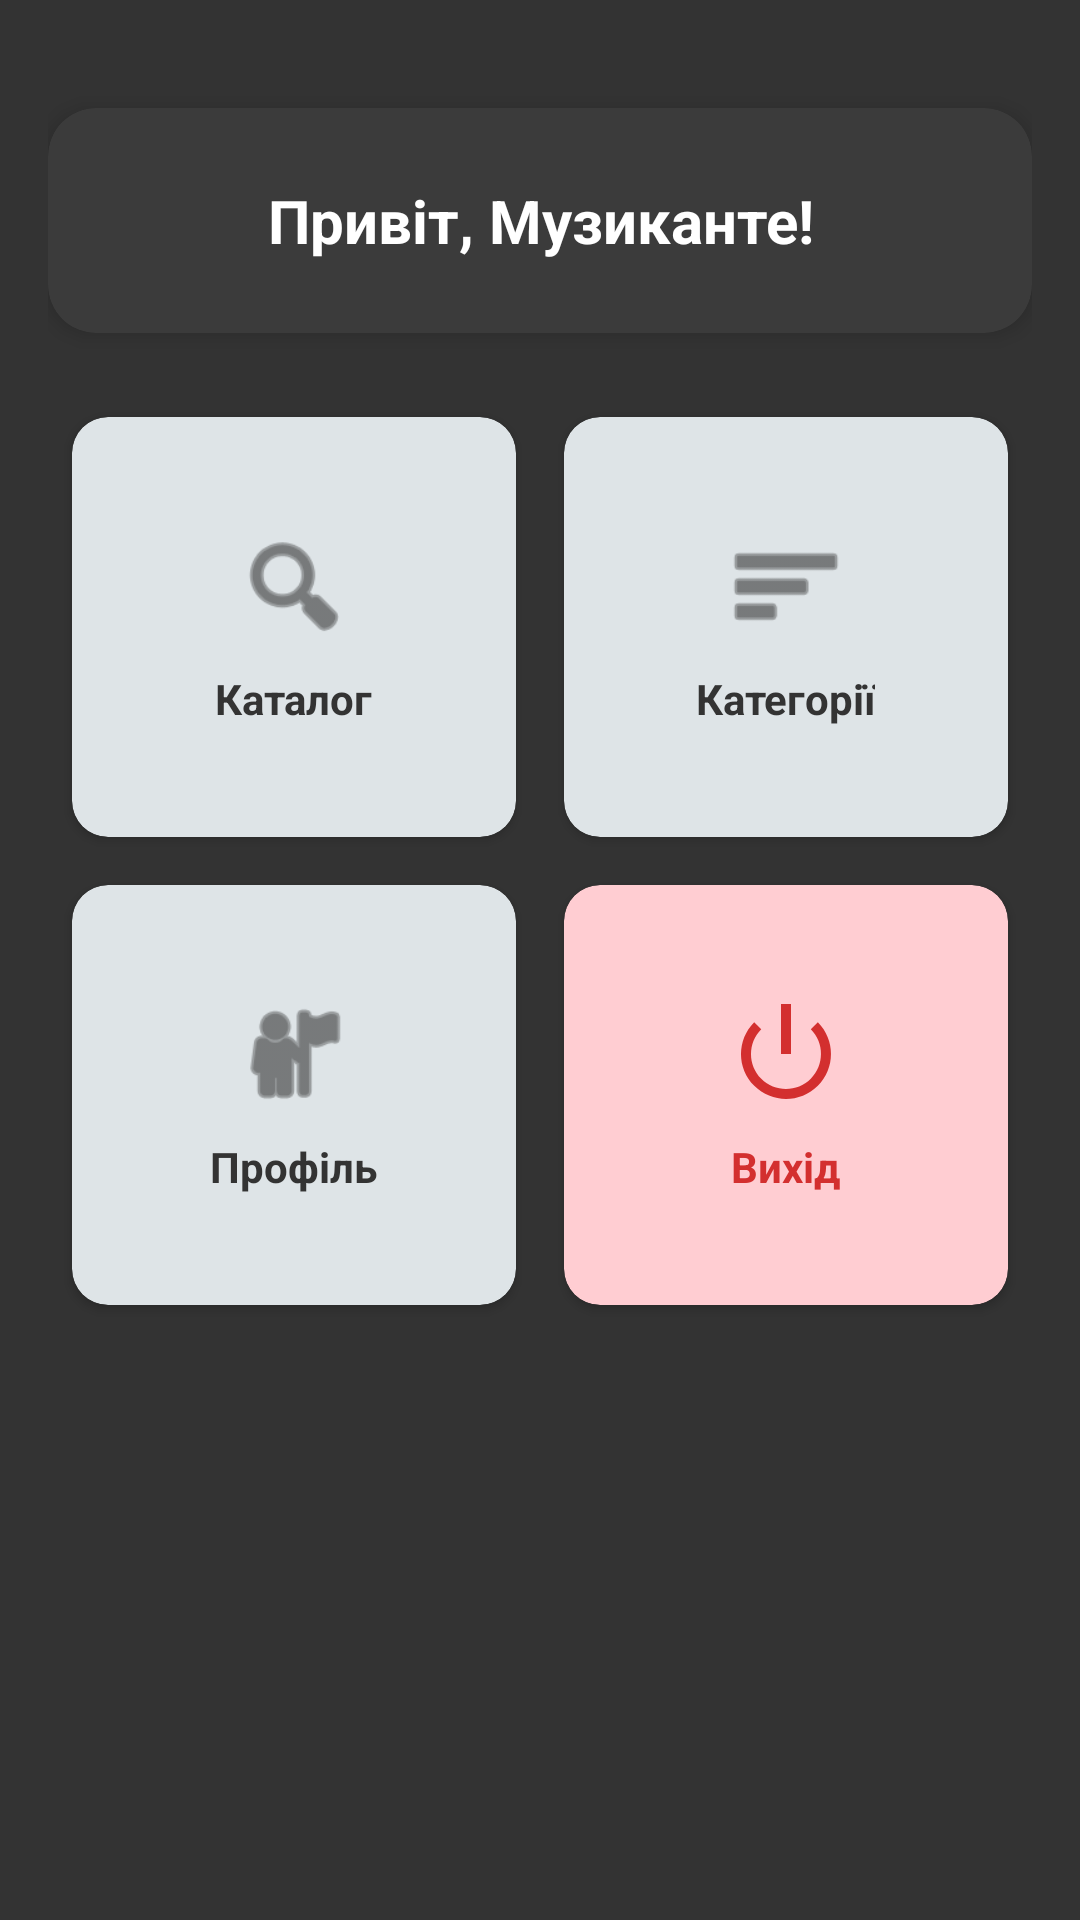

Icons on this 1080 x 1920 Android screen, each with the point to tap as (x,y):
lock power off: (786,1051)
myplaces: (295,1054)
search: (294,586)
sort by size: (786,586)
